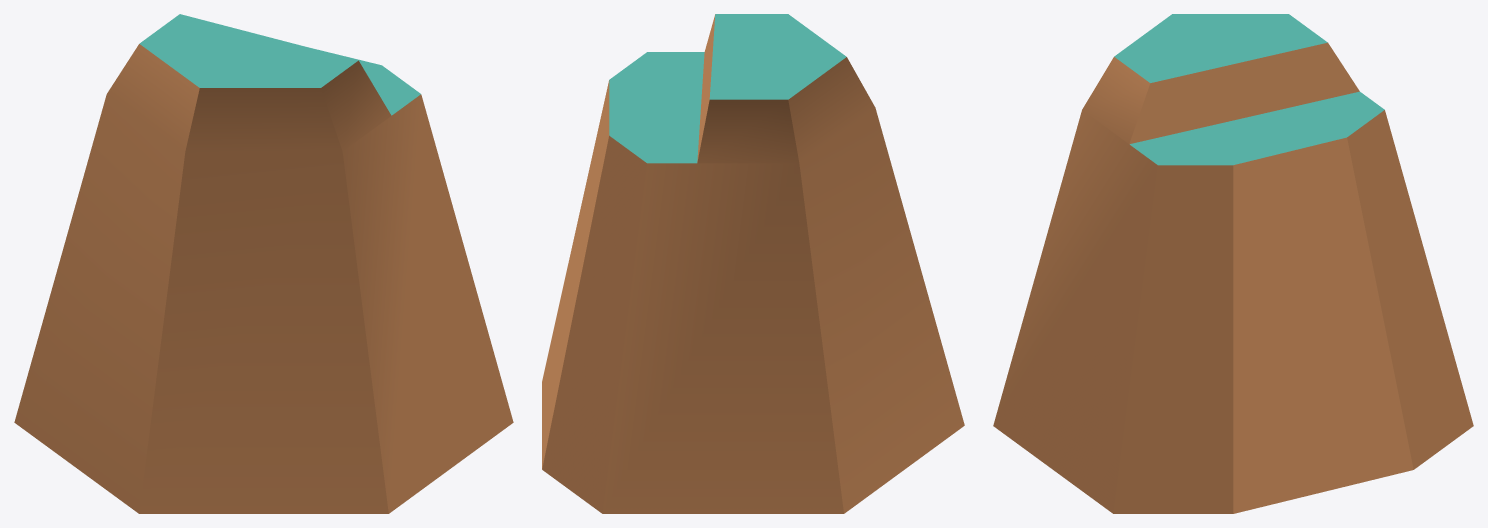
The model's file is rock_tall5.obj.
3 views of the same model, side by side, from view 1: azimuth 30°, elevation 25°; view 2: azimuth 150°, elevation 25°; view 3: azimuth 270°, elevation 25° (orthographic). The views are drawn at different scales.
Parts seen in each view (by area): view 1: rock_tall5; view 2: rock_tall5; view 3: rock_tall5.
Part boxes in pixels (box(x1,y1,x2,y2)): rock_tall5: box(14, 14, 513, 513); rock_tall5: box(542, 14, 964, 513); rock_tall5: box(993, 14, 1473, 513).
Bounding box in the file's own units: 4.56 × 4.44 × 5.27.
